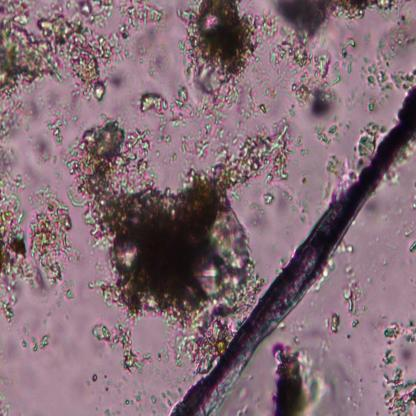Background material: (63, 110, 287, 320), (0, 1, 124, 101), (174, 0, 264, 125), (0, 188, 79, 323), (262, 24, 338, 124), (262, 0, 402, 39), (264, 332, 328, 415), (364, 20, 416, 92), (380, 317, 416, 415), (94, 320, 150, 372), (137, 89, 191, 137), (0, 103, 29, 188), (134, 28, 175, 82), (32, 108, 70, 166), (282, 164, 313, 229), (118, 0, 168, 37), (317, 152, 360, 192), (343, 262, 366, 327), (347, 81, 390, 111), (283, 129, 311, 167), (148, 347, 172, 382), (357, 124, 380, 159), (310, 122, 343, 146), (338, 36, 357, 77), (19, 332, 50, 353), (99, 374, 128, 396), (121, 386, 146, 410), (323, 310, 342, 334), (0, 372, 10, 416), (156, 386, 176, 405), (401, 220, 414, 240), (103, 405, 121, 416), (0, 348, 11, 361), (148, 392, 158, 406), (90, 372, 98, 382), (410, 240, 416, 253), (149, 408, 157, 416)
Cotton: (171, 85, 416, 415)
